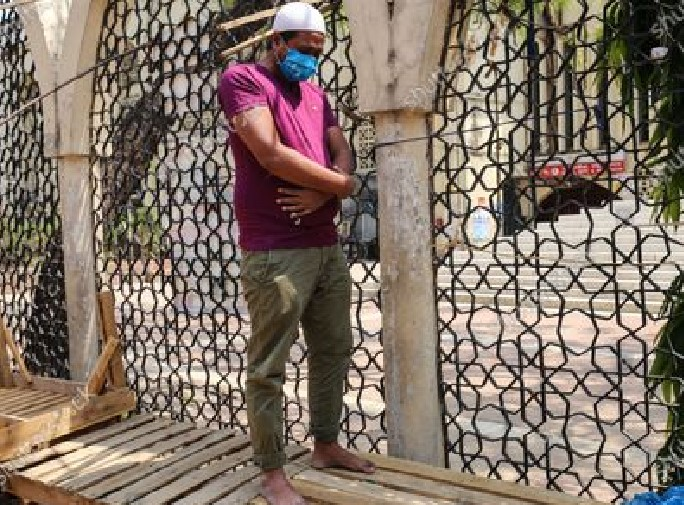face_with_mask: (268, 6, 327, 84)
